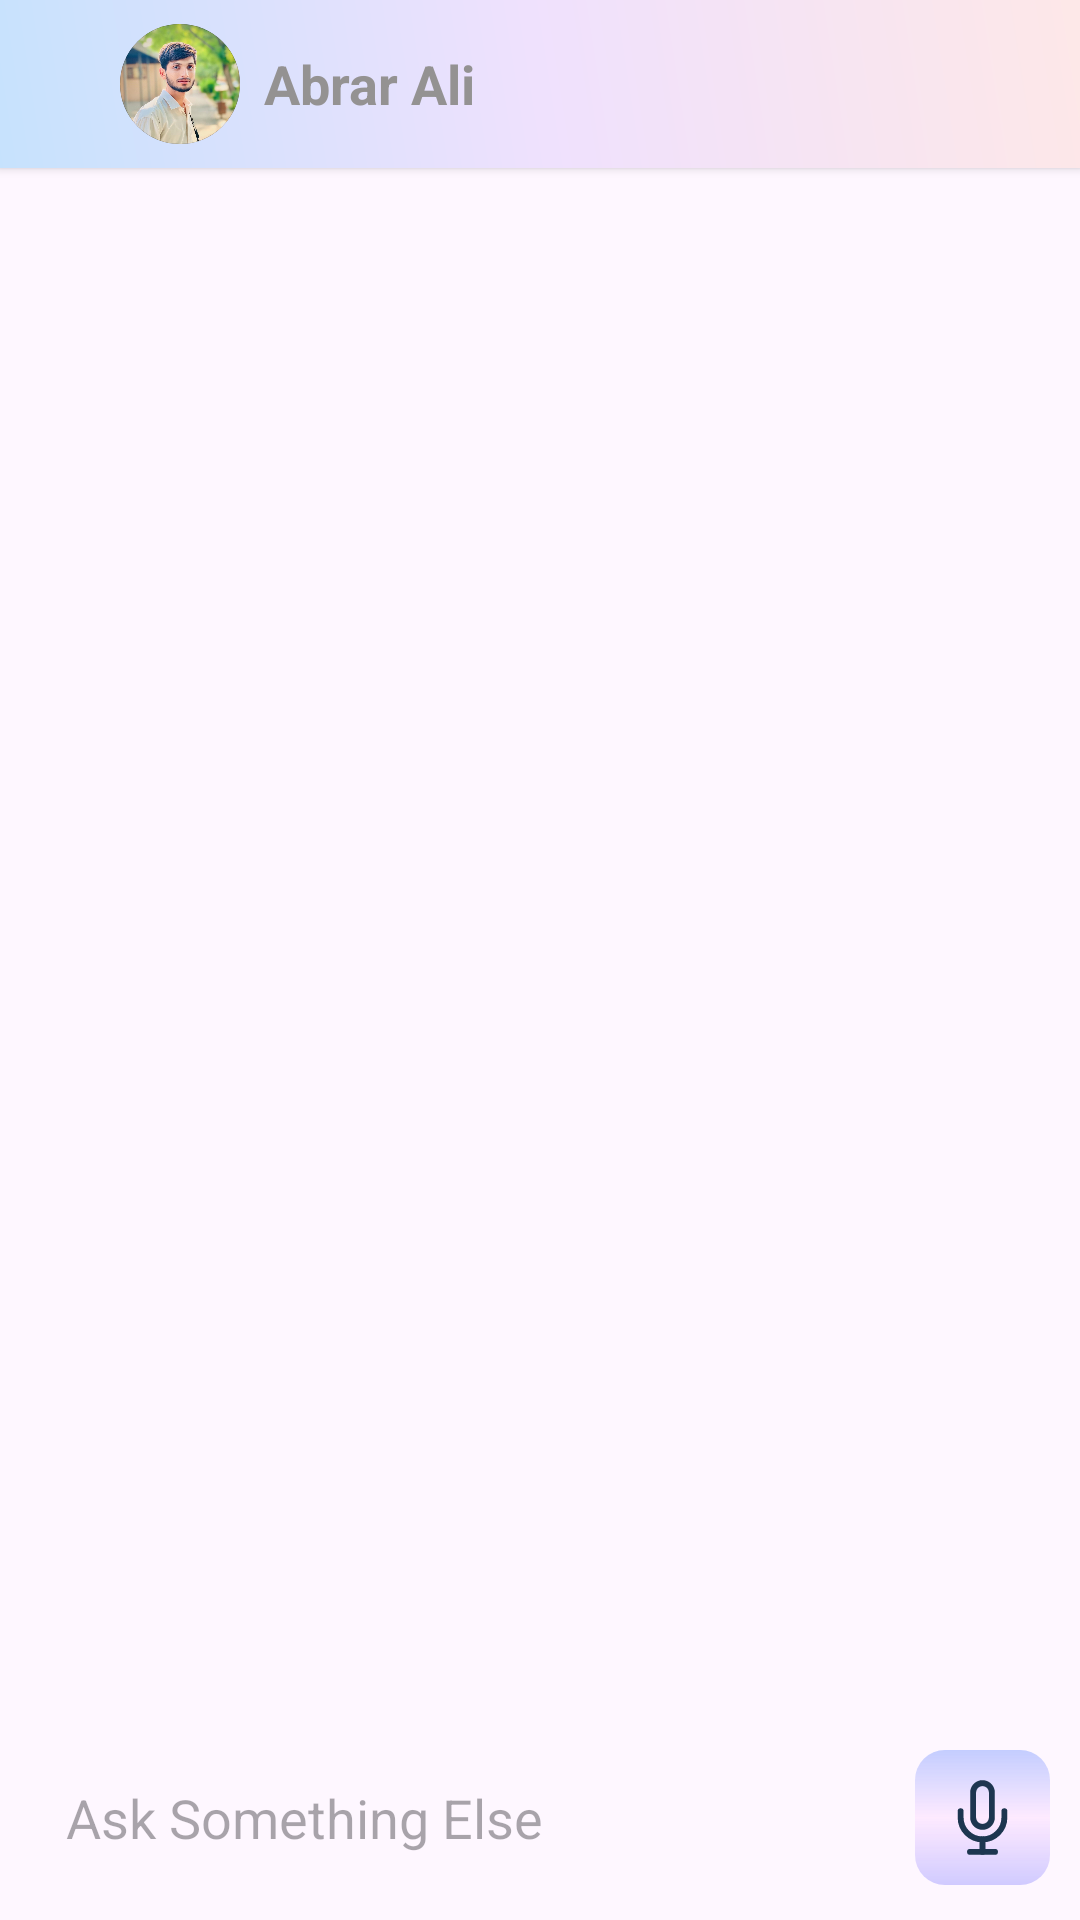

Screen size 1080 × 1920. Icon name, then its center in pixels as point (x, y):
User Picture: point (180, 84)
